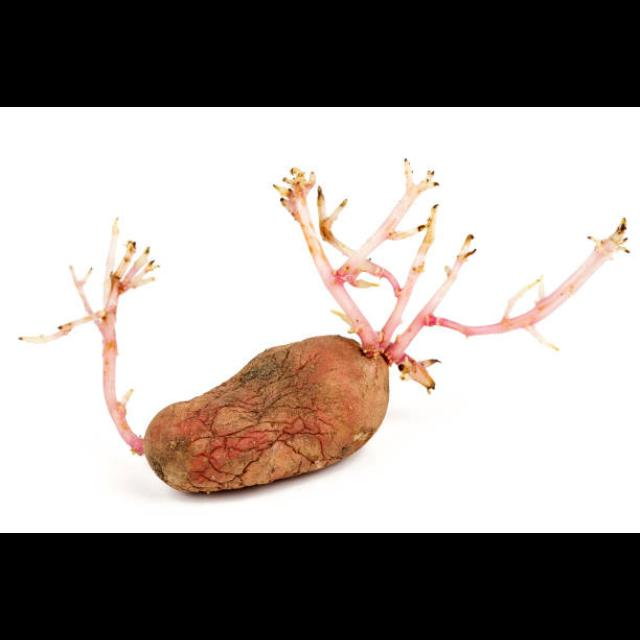Sprouted potato: (20, 164, 640, 496)
